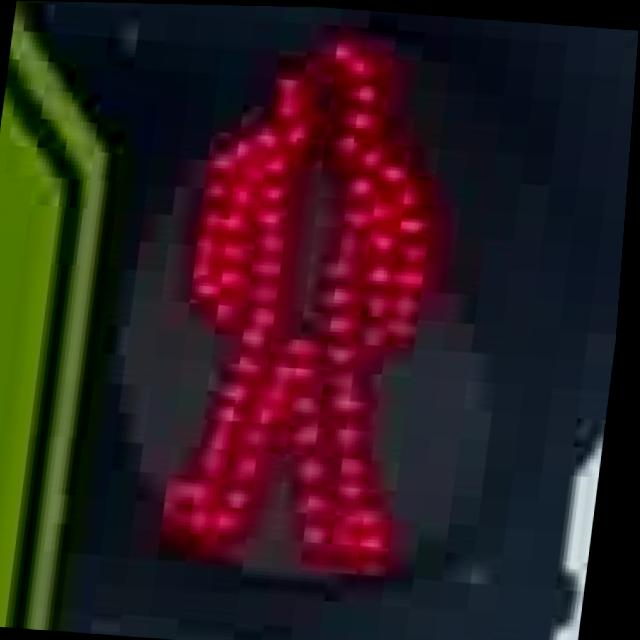red_light: (148, 8, 509, 572)
